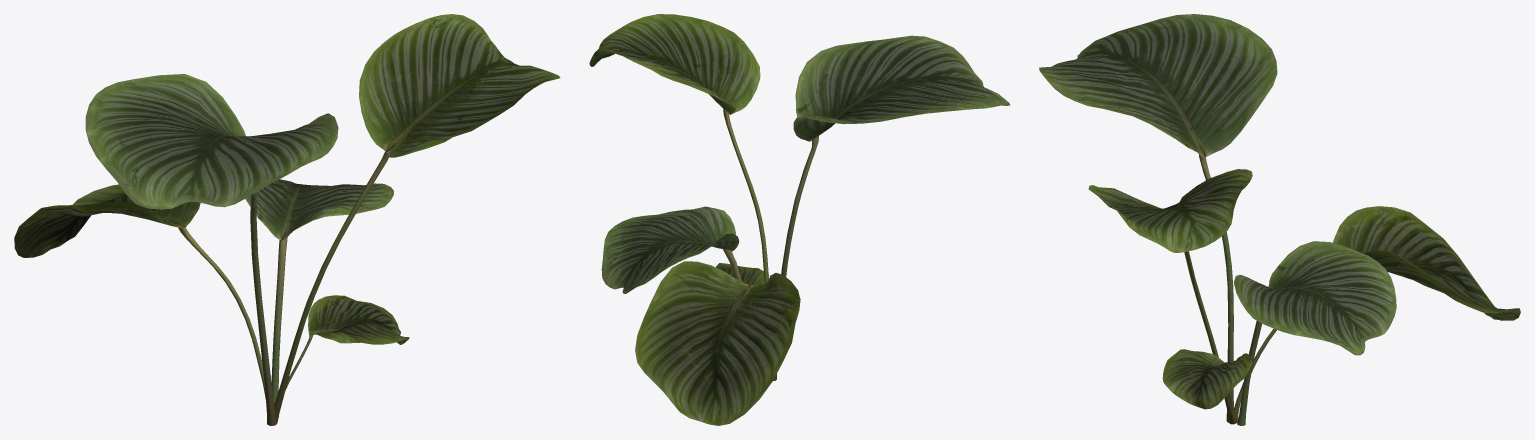
The model's file is calathea1.glb.
3 views of the same model, side by side, from view 1: azimuth 30°, elevation 25°; view 2: azimuth 150°, elevation 25°; view 3: azimuth 270°, elevation 25° (orthographic). The views are drawn at different scales.
Visible parts, largest first — view 1: calathea_orbifolia_01_c; view 2: calathea_orbifolia_01_c; view 3: calathea_orbifolia_01_c.
Part boxes in pixels (left/top/right/bottom): calathea_orbifolia_01_c: left=14, top=14, right=560, bottom=425; calathea_orbifolia_01_c: left=589, top=14, right=1010, bottom=425; calathea_orbifolia_01_c: left=1039, top=14, right=1520, bottom=425.
Bounding box in the file's own units: 0.3752 × 0.284 × 0.3838.
Materials: 1 (1 with a texture image).
